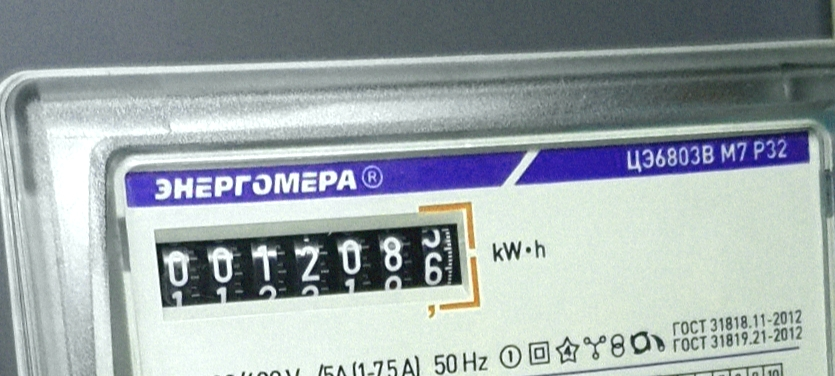0: (207, 241, 239, 286), (164, 244, 192, 289), (338, 235, 365, 276)
1: (252, 240, 278, 283)
2: (295, 242, 325, 283)
6: (419, 248, 447, 287)
8: (380, 232, 406, 274)
screen: (143, 179, 496, 355)
